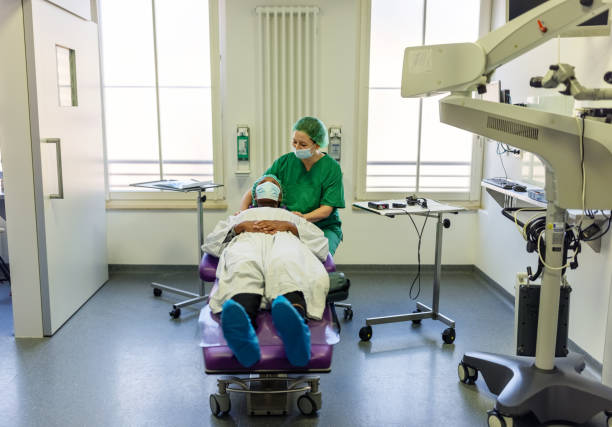door_handle: (47, 137, 66, 203)
exam_table: (200, 238, 335, 427)
keyboard: (482, 177, 528, 190)
mouse: (512, 185, 527, 193)
patient: (202, 174, 331, 368)
staff: (242, 116, 347, 258)
utility_cart: (353, 192, 461, 343), (131, 173, 210, 318)
